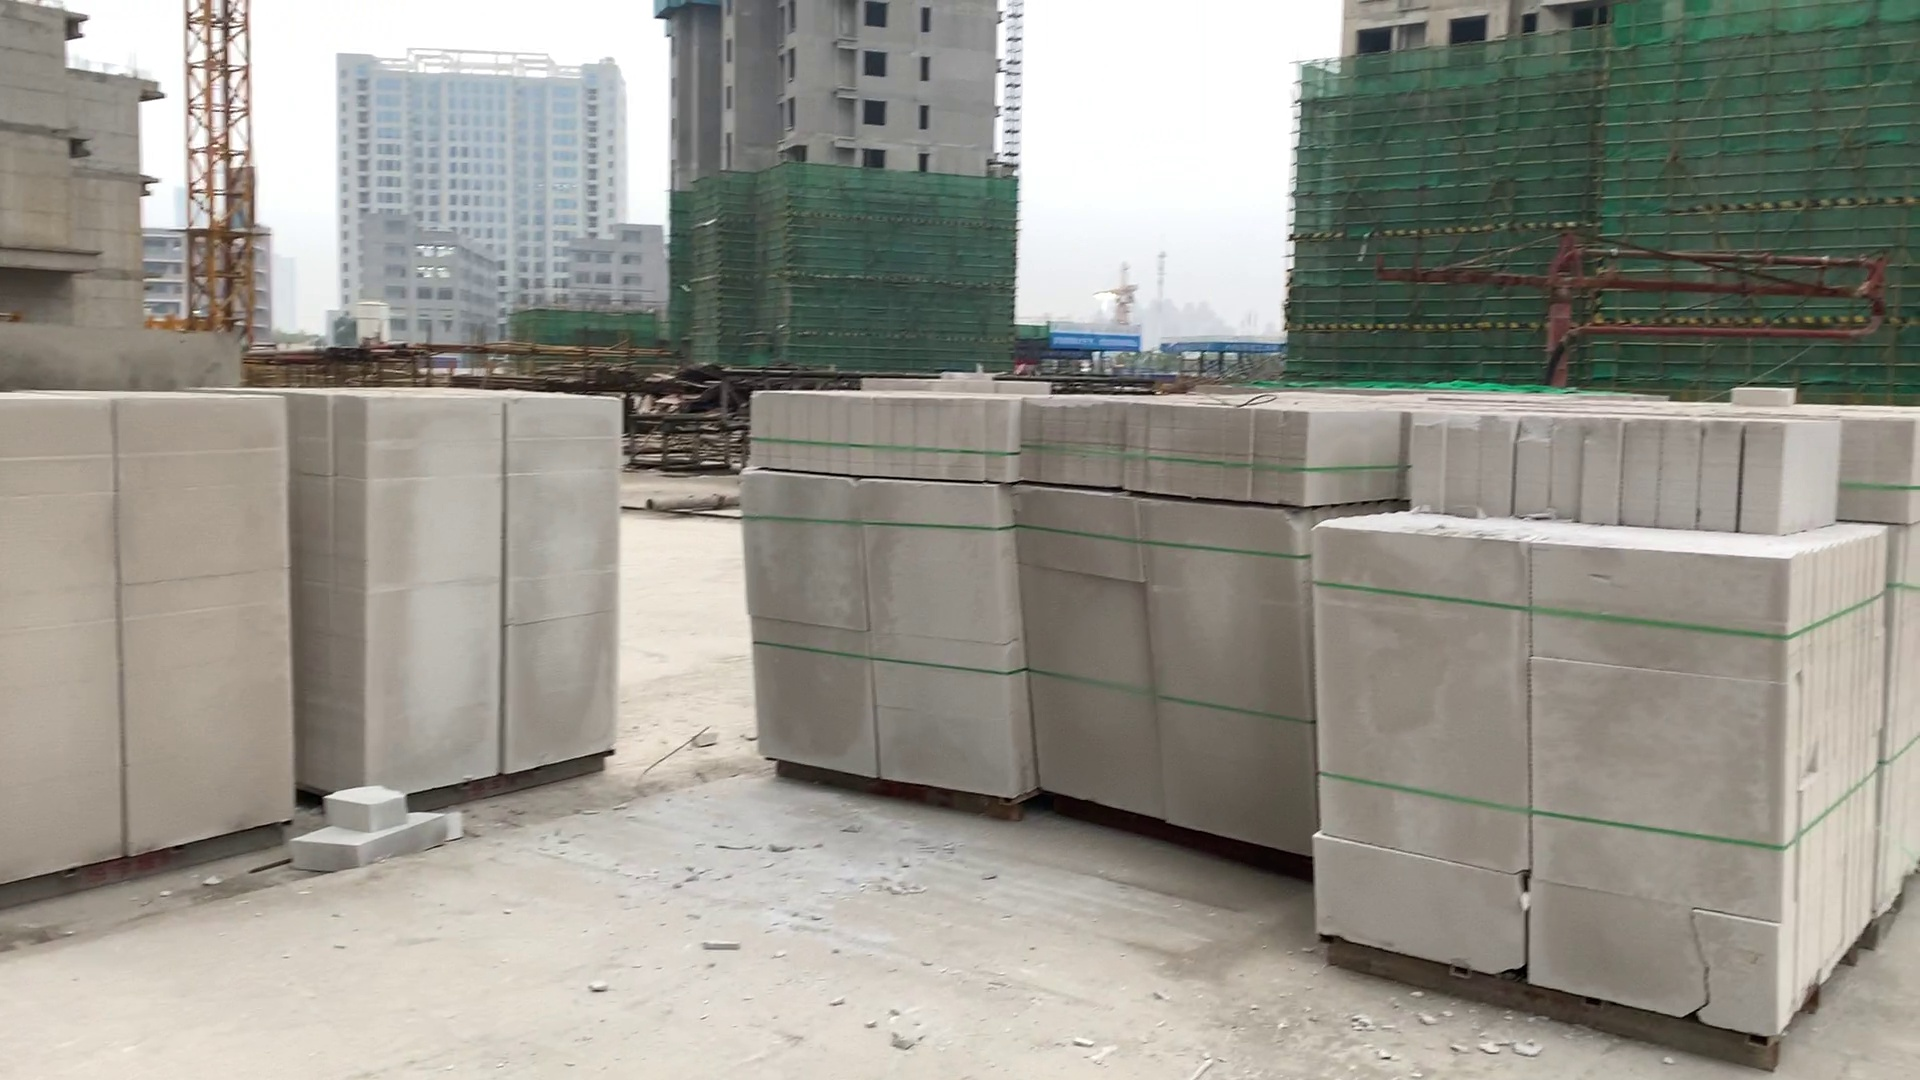brickwork: (1323, 411, 1876, 1043), (3, 400, 297, 876), (1019, 400, 1317, 862), (746, 385, 1021, 818), (322, 396, 622, 789)
